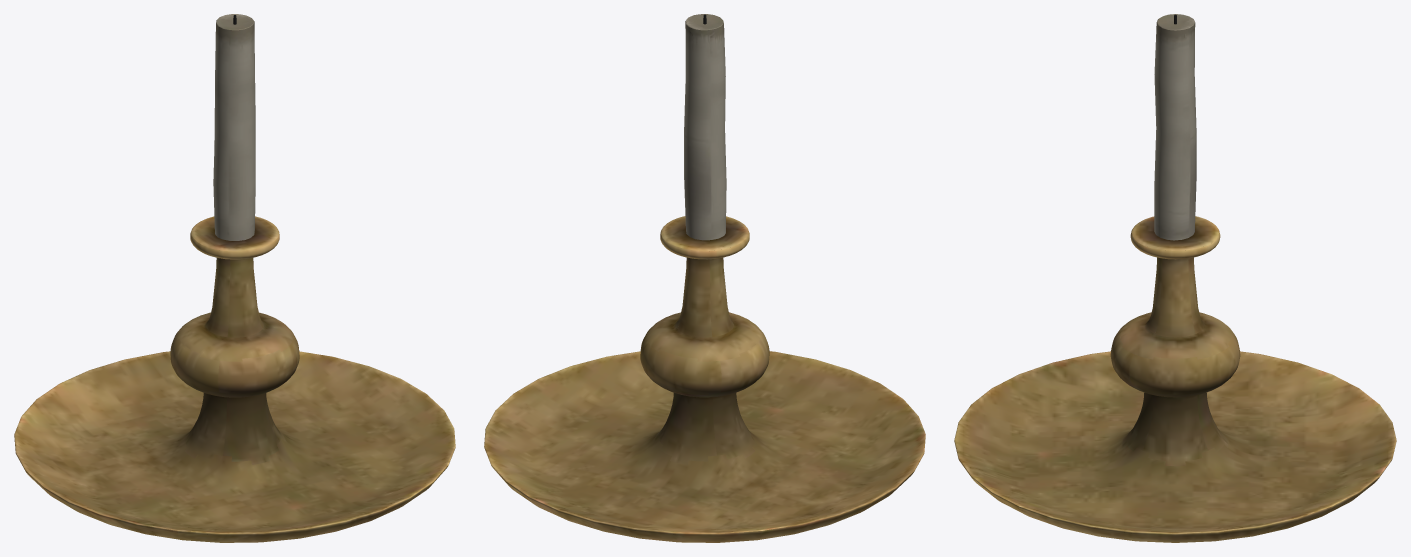
File: obj_old_brass_candle_holder.glb
The picture shows the model from 3 angles, left to right: view 1: azimuth 30°, elevation 25°; view 2: azimuth 150°, elevation 25°; view 3: azimuth 270°, elevation 25°; orthographic projection.
Visible parts, largest first — view 1: defaultMaterial; view 2: defaultMaterial; view 3: defaultMaterial.
Boxes of the visible parts, x1,y1,x2,y2 form: defaultMaterial: (14, 14, 455, 542); defaultMaterial: (484, 14, 925, 542); defaultMaterial: (954, 14, 1396, 542).
Bounding box in the file's own units: 0.1947 × 0.22 × 0.1947.
Materials: 3 (3 with a texture image).
